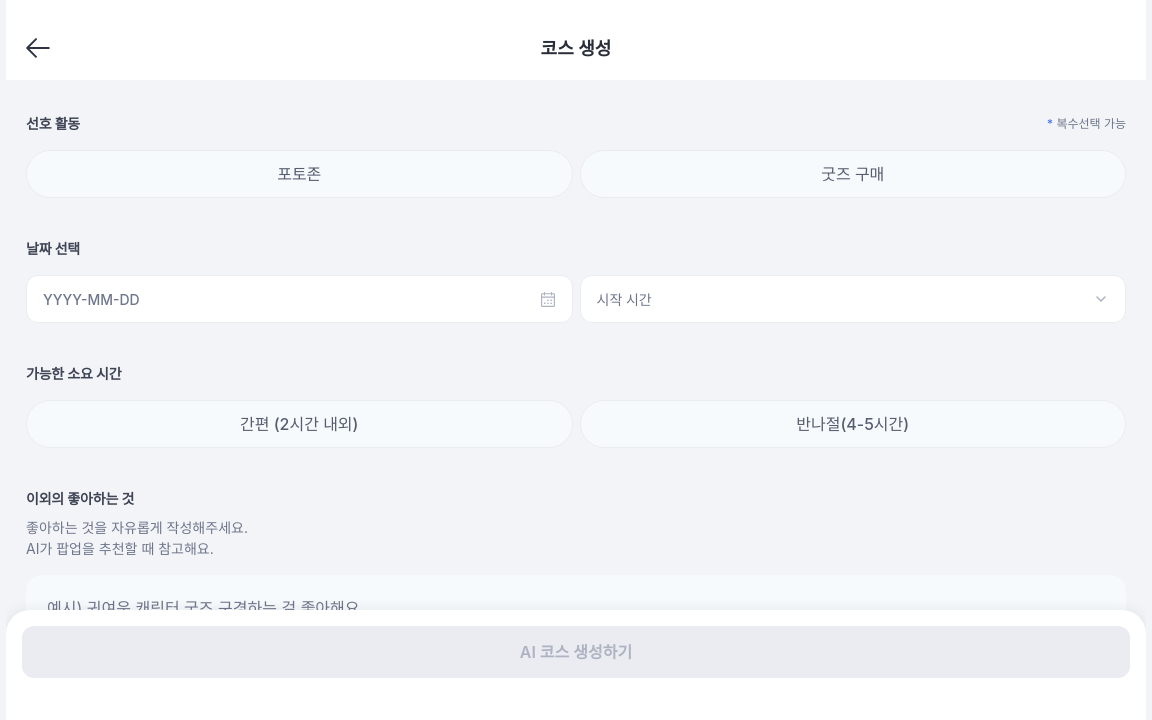
Test case: 오늘 고를 수 있는 시작 시각이 남지 않았으면 오늘은 달력에서 고를 수 없고 주소의 오늘 날짜도 버린다
The width and height of the screenshot is (1152, 720).
(page scrolled)
Click the button "YYYY-MM-DD" at [91, 299], box [26,275,572,323]
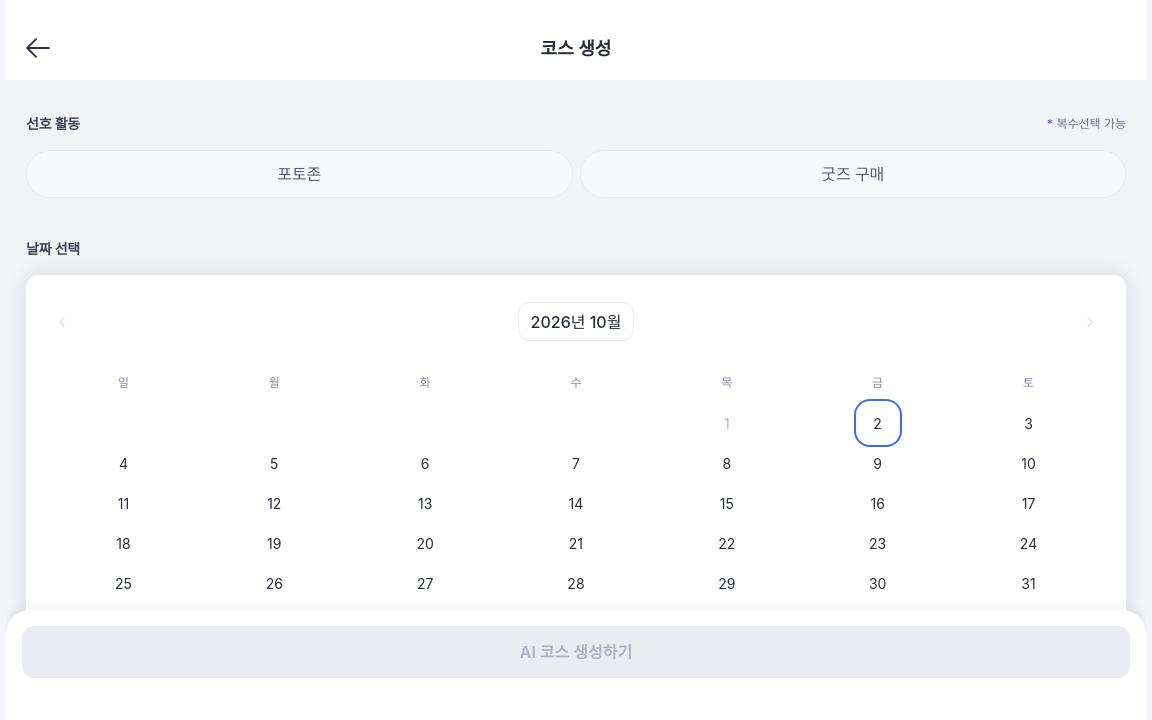
Expected: the button named "2026년 10월 1일" is disabled, [707,403,747,443]
Result: the button named "2026년 10월 2일" is enabled at [858,403,898,443]
